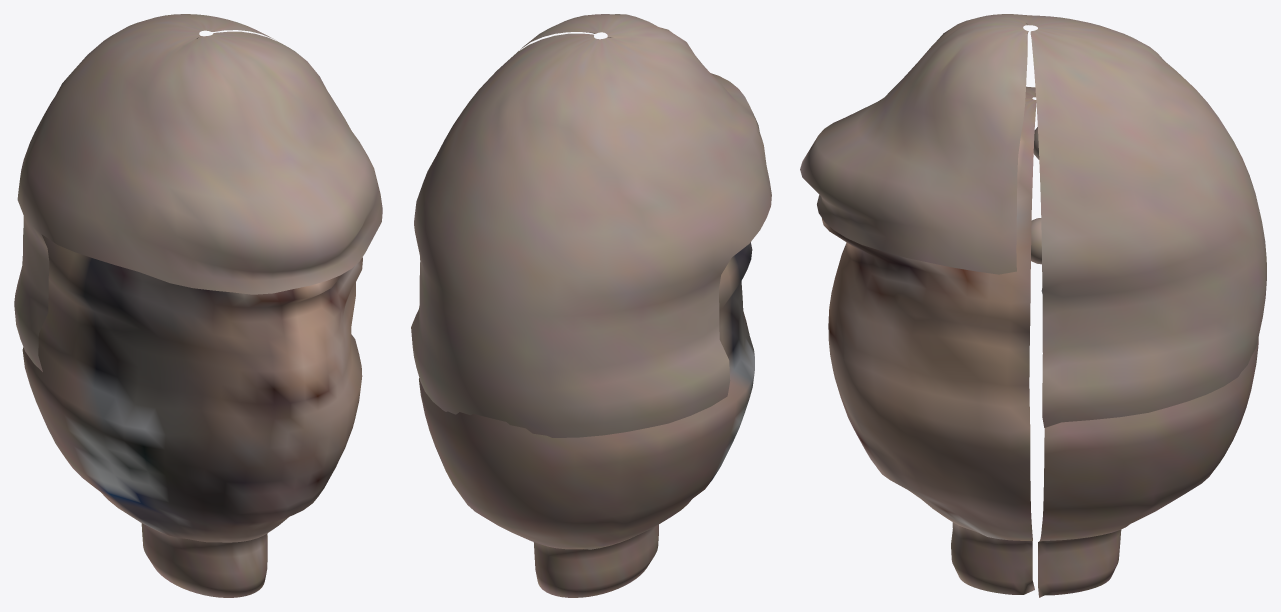
File: avatar_v2_149a2cb2.glb
3 views of the same model, side by side, from view 1: azimuth 30°, elevation 25°; view 2: azimuth 150°, elevation 25°; view 3: azimuth 270°, elevation 25° (orthographic). The views are drawn at different scales.
Visible parts, largest first — view 1: world; view 2: world; view 3: world.
Boxes of the visible parts, x1,y1,x2,y2 form: world: (14, 14, 382, 597); world: (411, 14, 771, 597); world: (800, 14, 1266, 597).
Size of the model in its own units: 0.0911 by 0.1557 by 0.1203.
